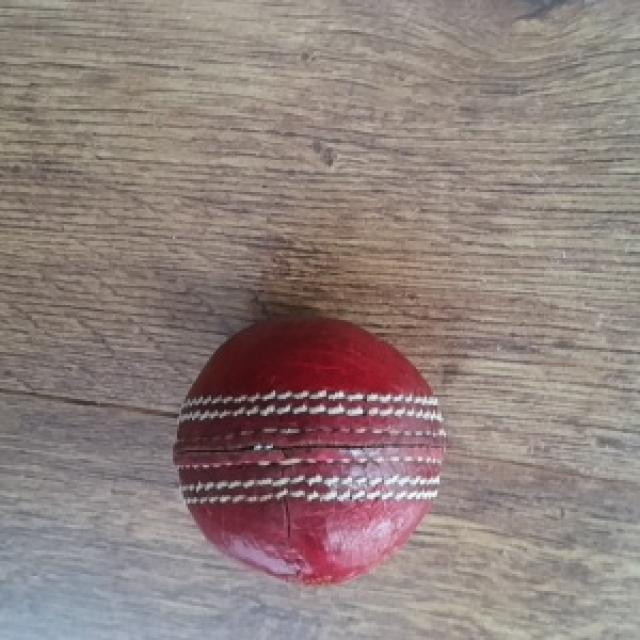ball: (169, 315, 451, 585)
